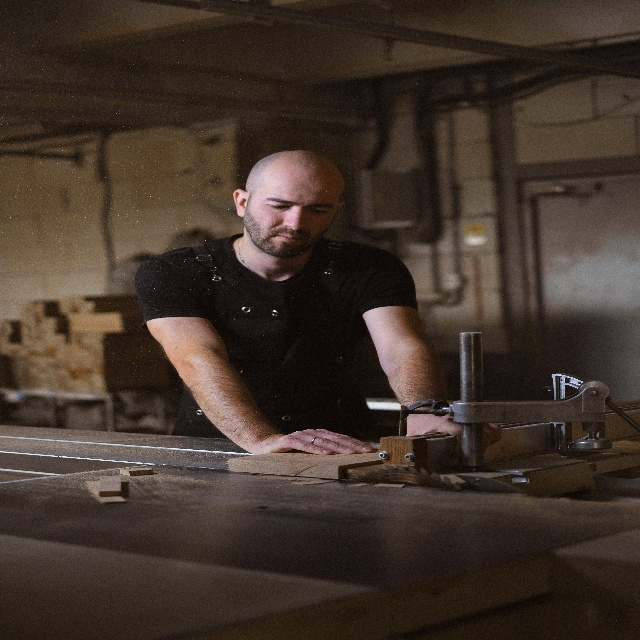Sin_guantes: (404, 400, 502, 465), (266, 426, 375, 455)
